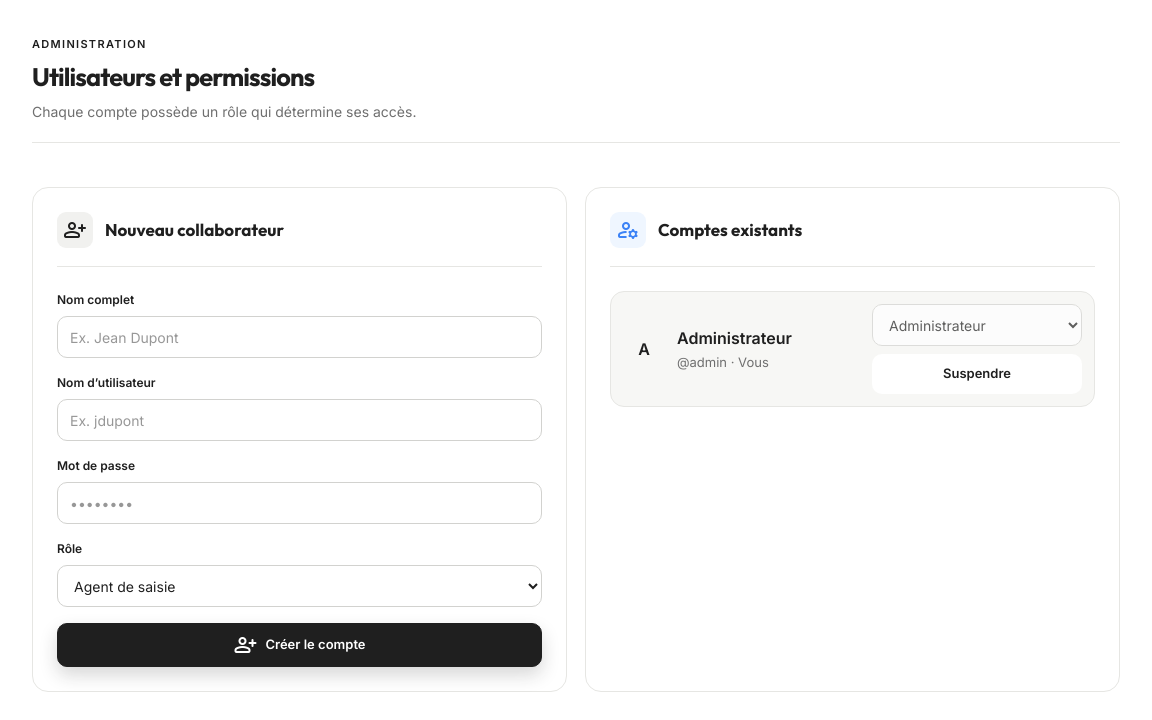
it: UserManagementPage › explains when the username is already used
This screenshot has width=1152, height=720.
Expected: the text "@admin · Vous" is shown, [677, 354, 769, 370]
Type "Jean Dupont" into the field labelled "Nom complet".
click(300, 337); type("Jean Dupont")  # box [57, 316, 542, 358]
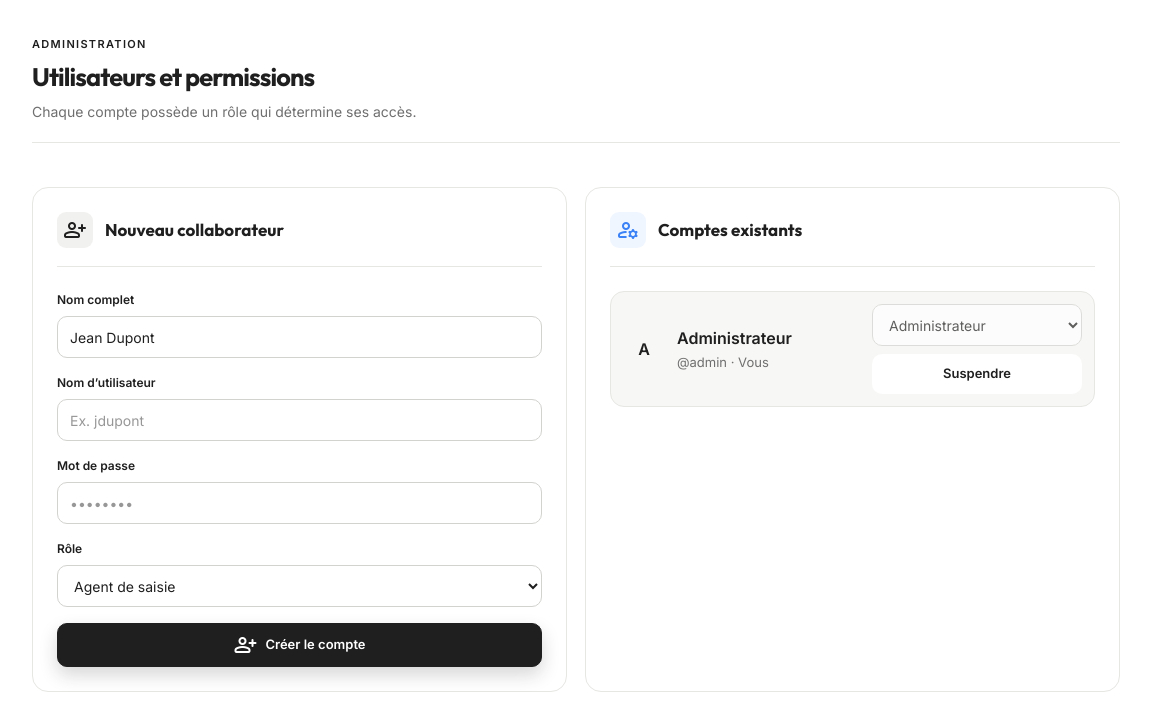
Type "jdupont" into the field labelled "Nom d’utilisateur".
click(300, 420); type("jdupont")  # box [57, 399, 542, 441]
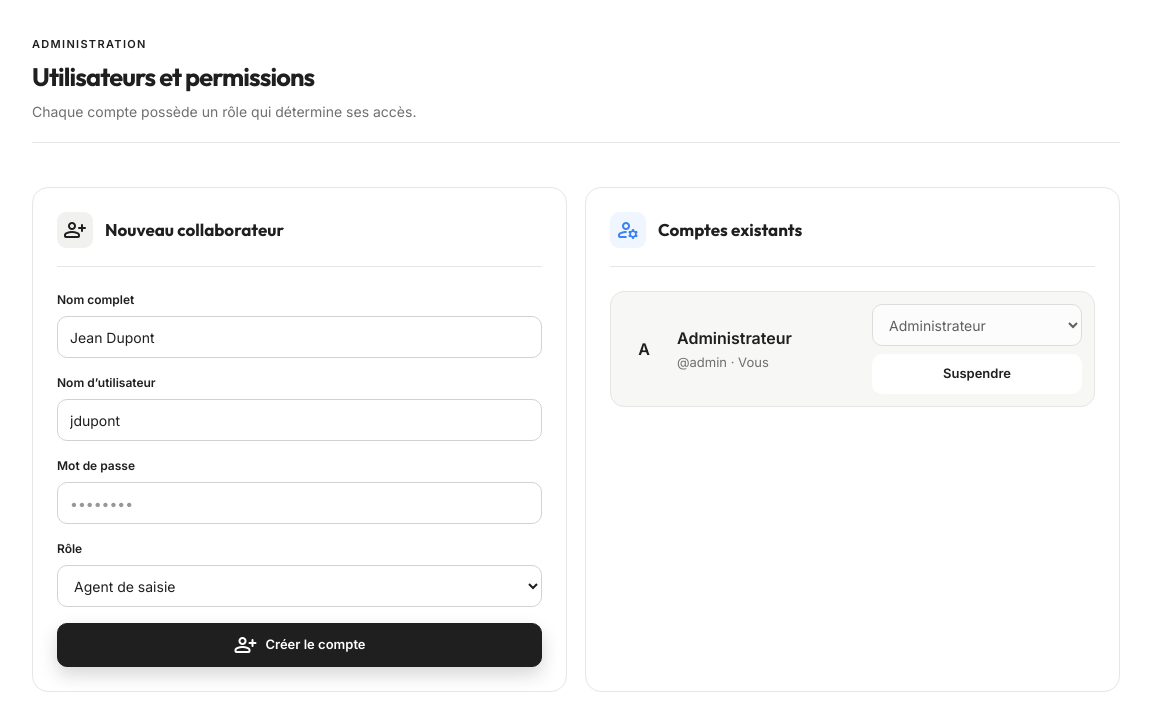
Type "mot-de-passe" into the password field labelled "Mot de passe".
click(300, 503); type("mot-de-passe")  # box [57, 482, 542, 524]
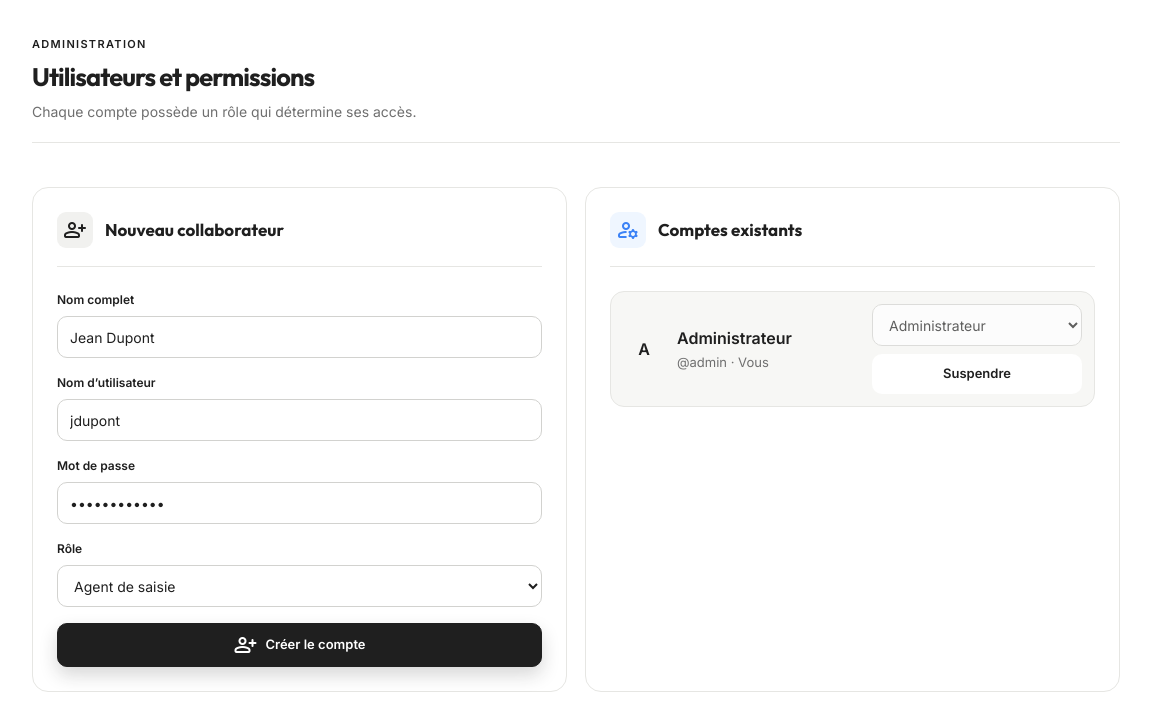
Click the button "Créer le compte".
click(300, 645)  # box [57, 623, 542, 667]
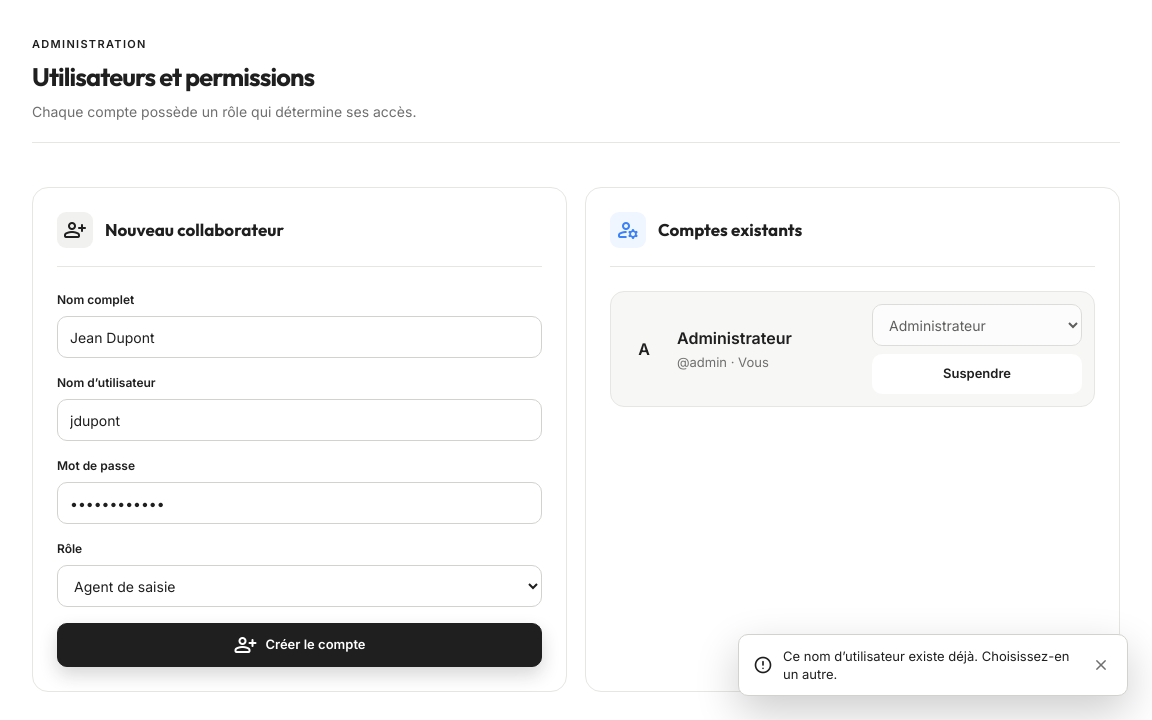
Expected: the text "Ce nom d’utilisateur existe déjà. Choisissez-en un autre." is shown, [783, 647, 1077, 683]
